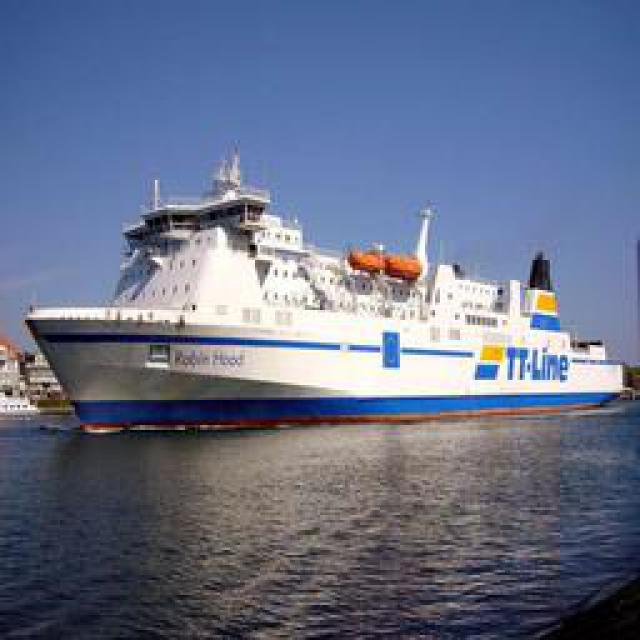Ship: (24, 155, 619, 425)
